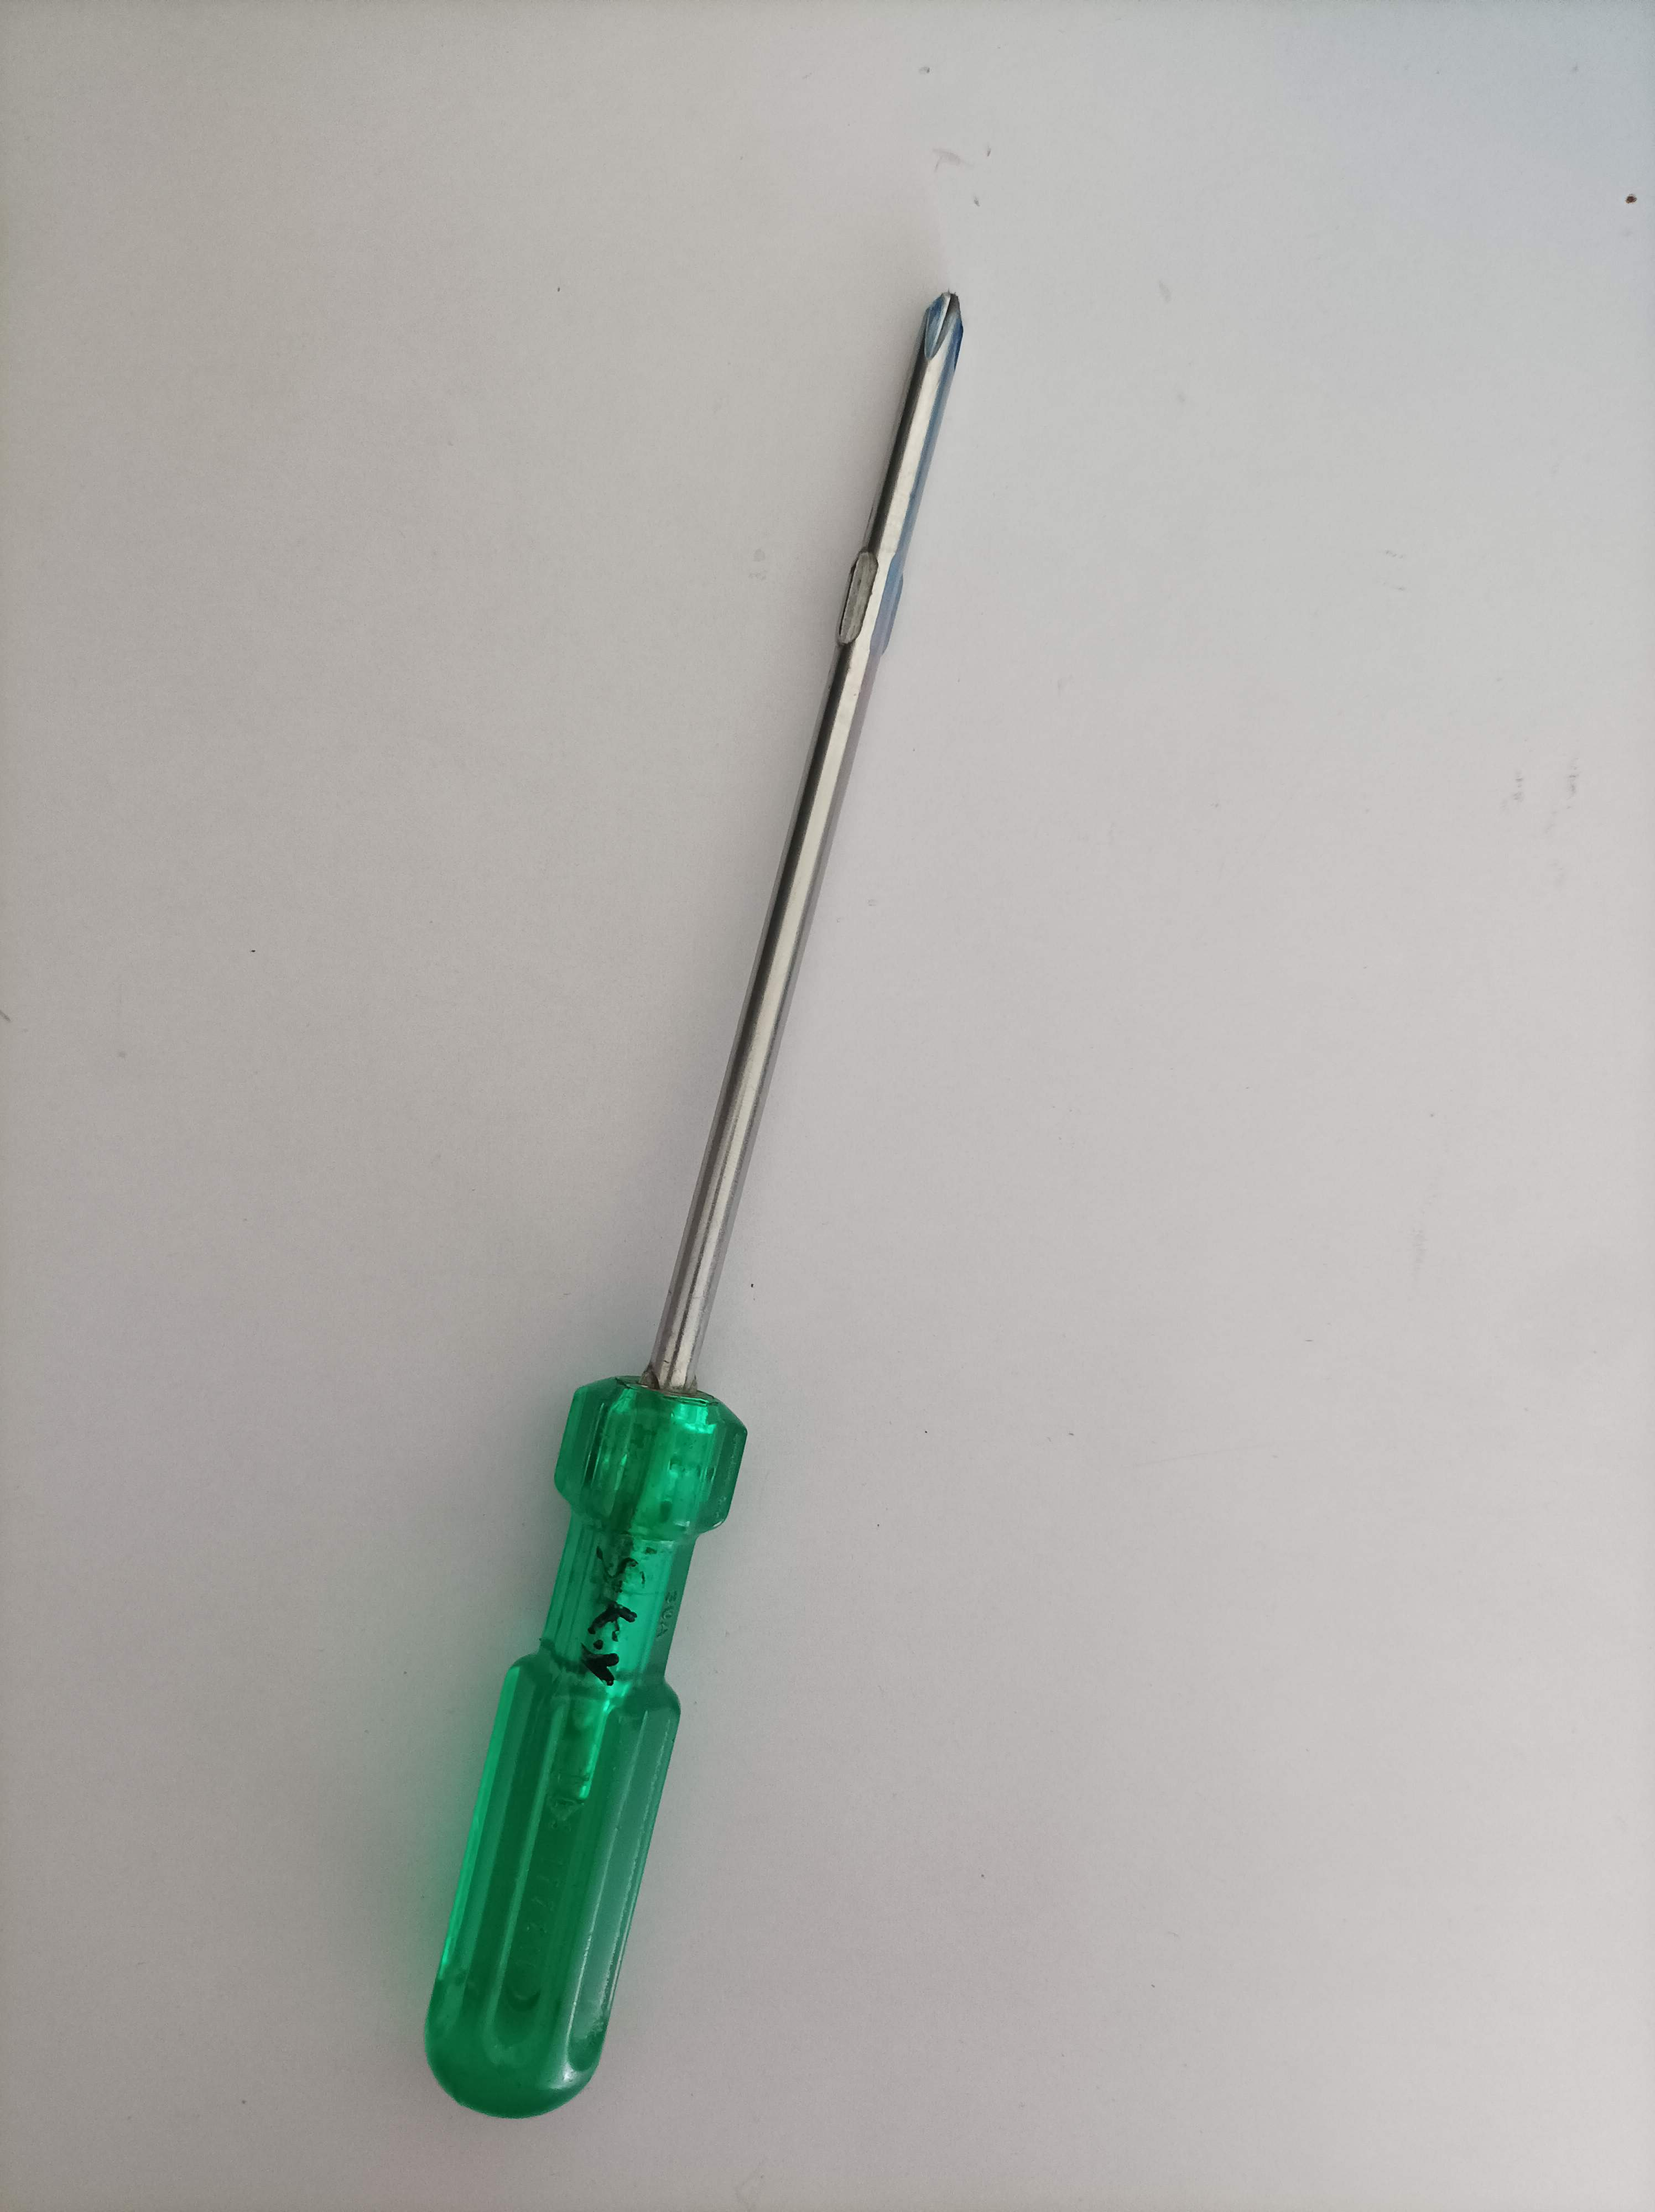screwdriver: (410, 269, 989, 2134)
